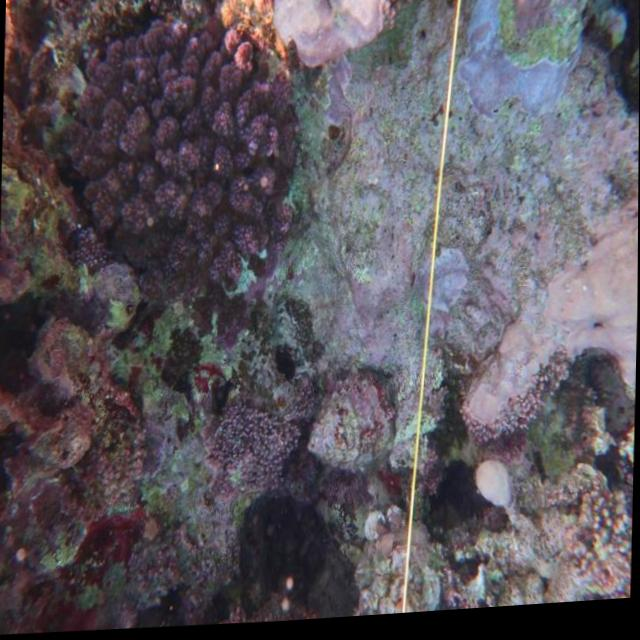Healthy Coral: (47, 12, 308, 312)
